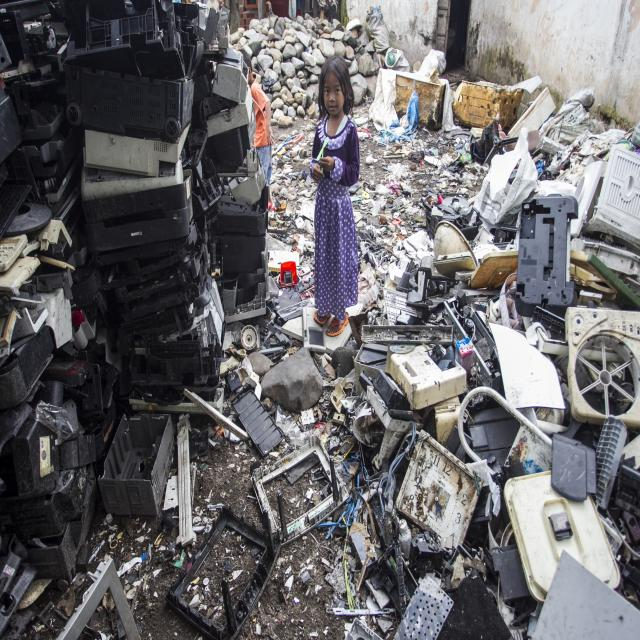hazard: (244, 108, 640, 640), (3, 0, 266, 603)
